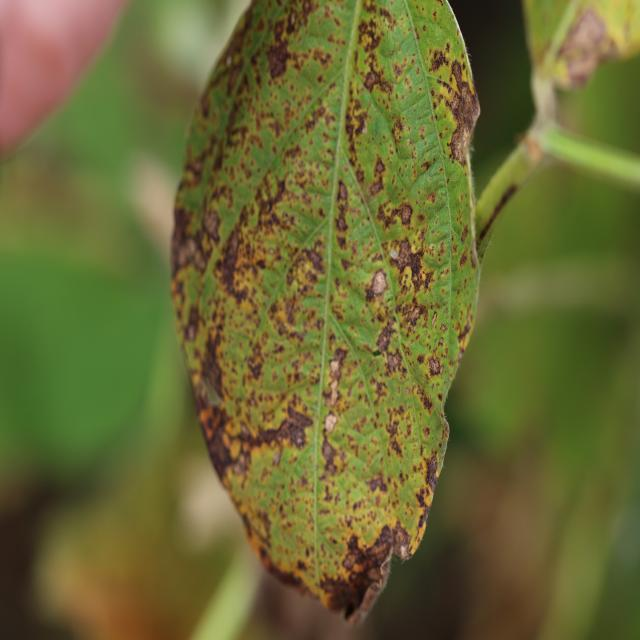Bacterial_Blight: (215, 21, 338, 212), (210, 427, 318, 590), (171, 214, 223, 420), (442, 177, 478, 378), (426, 44, 479, 180), (232, 374, 310, 463), (395, 492, 444, 575), (171, 204, 203, 265), (363, 532, 394, 566), (266, 39, 291, 80), (223, 89, 243, 135), (404, 299, 430, 333), (413, 383, 435, 417), (376, 318, 396, 354), (363, 67, 386, 92), (397, 264, 415, 295), (438, 416, 450, 461), (367, 472, 388, 494), (247, 355, 263, 381), (430, 48, 447, 71), (286, 10, 300, 34), (285, 298, 297, 324), (379, 7, 394, 27), (428, 356, 442, 377), (400, 204, 413, 225), (256, 257, 267, 270), (225, 51, 233, 68), (441, 286, 447, 295)
Soybean: (172, 0, 479, 621)
